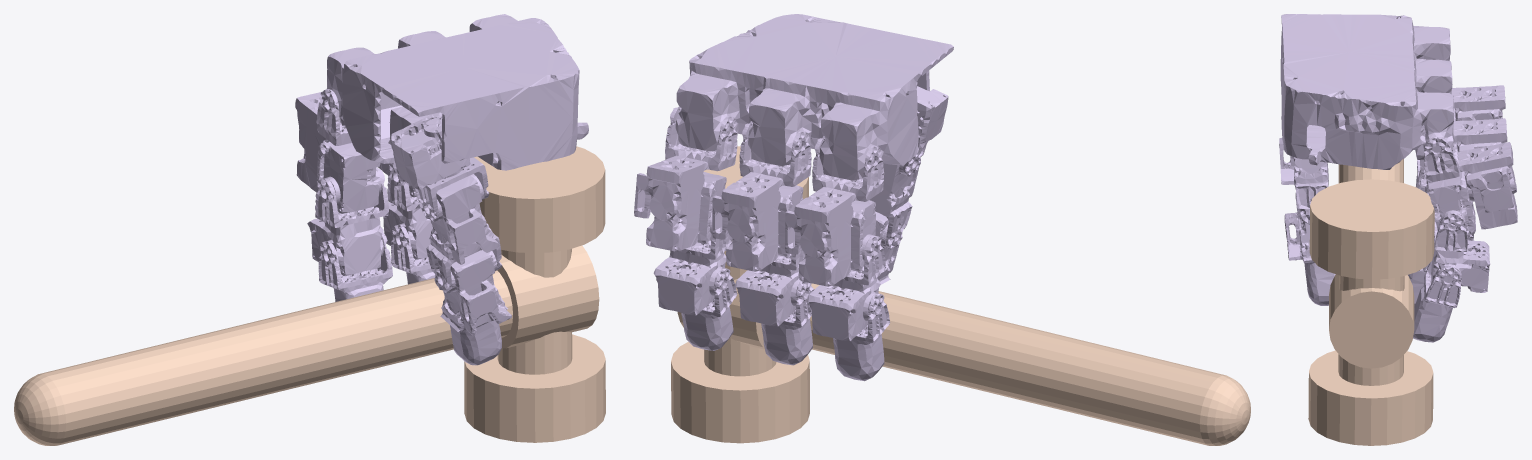
File: aacf7d43ea0fd0-closed.glb
3 views of the same model, side by side, from view 1: azimuth 30°, elevation 25°; view 2: azimuth 150°, elevation 25°; view 3: azimuth 270°, elevation 25° (orthographic). The views are drawn at different scales.
Visible parts, largest first — view 1: world, LEAP_hand; view 2: LEAP_hand, world; view 3: LEAP_hand, world.
Boxes of the visible parts, left/top/right/bottom form: world: left=14, top=146, right=605, bottom=445; LEAP_hand: left=295, top=14, right=588, bottom=365; LEAP_hand: left=634, top=14, right=953, bottom=381; world: left=671, top=146, right=1250, bottom=445; LEAP_hand: left=1279, top=14, right=1517, bottom=342; world: left=1308, top=159, right=1434, bottom=445.
Bounding box in the file's own units: 0.3581 × 0.225 × 0.1456.
